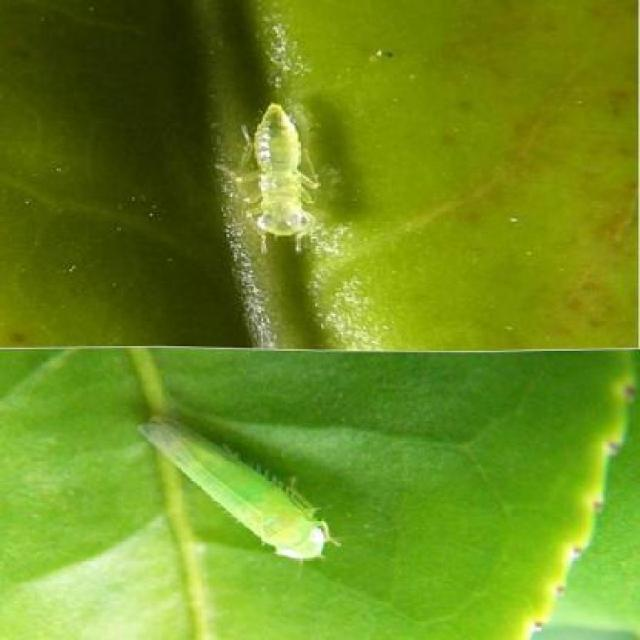green-leafhopper: (144, 414, 344, 566), (216, 97, 344, 257)
